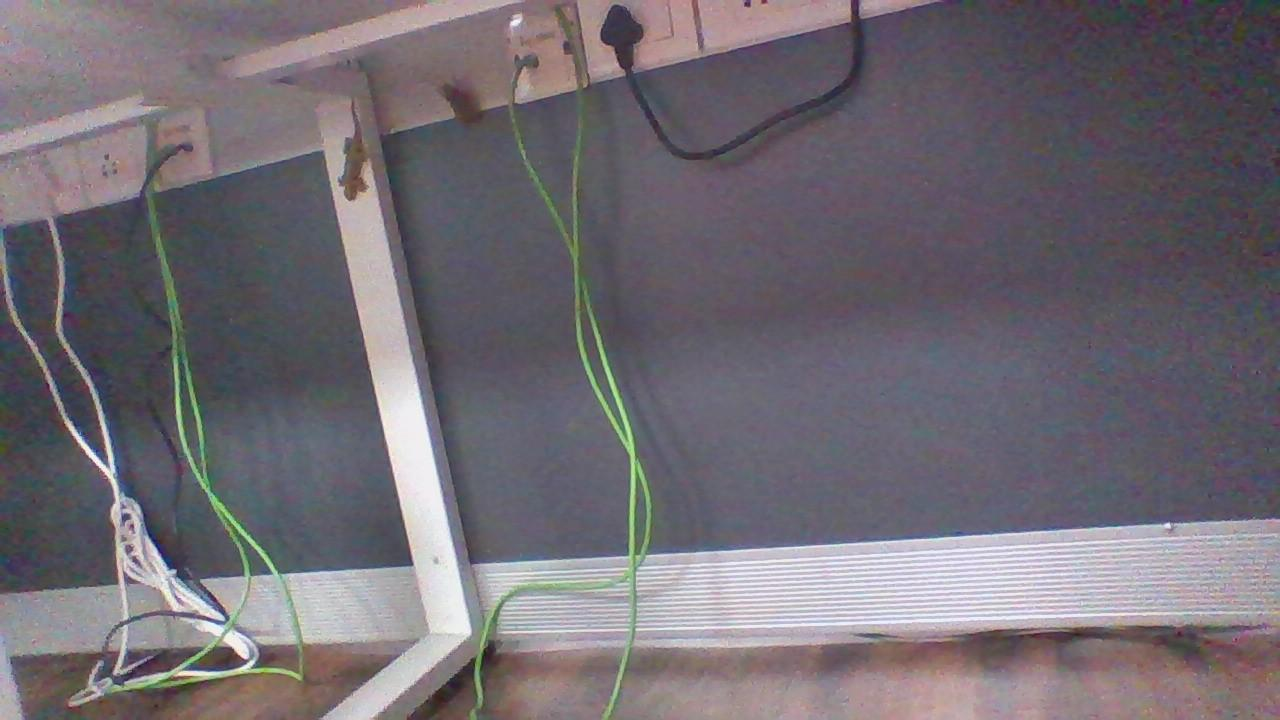cockroach: (425, 67, 483, 133)
lizard: (326, 90, 380, 214)
